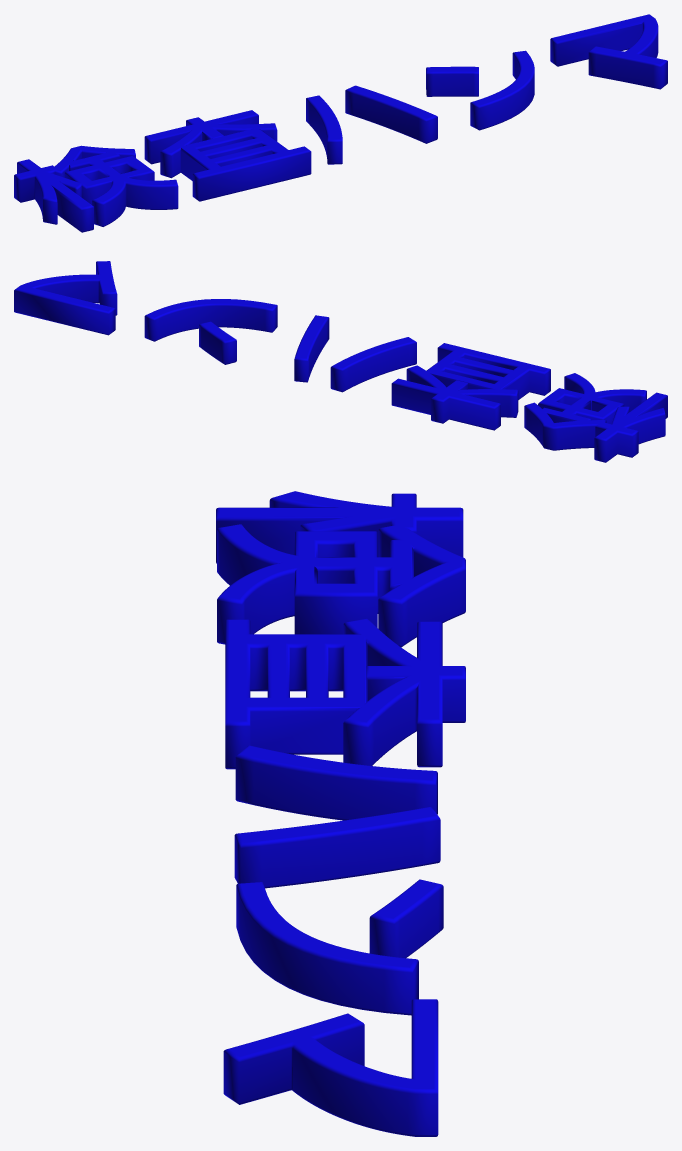
Rendered from hummer.glb.
The picture shows the model from 3 angles, top to bottom: view 1: azimuth 30°, elevation 25°; view 2: azimuth 150°, elevation 25°; view 3: azimuth 270°, elevation 25°; orthographic projection. The views are drawn at different scales.
Parts seen in each view (by area): view 1: テキスト; view 2: テキスト; view 3: テキスト.
Boxes of the visible parts, x1=… form: テキスト: x1=14, y1=14, x2=667, y2=232; テキスト: x1=14, y1=261, x2=667, y2=462; テキスト: x1=216, y1=491, x2=465, y2=1136.
Size of the model in its own units: 3.8 by 0.14 by 0.6678.
